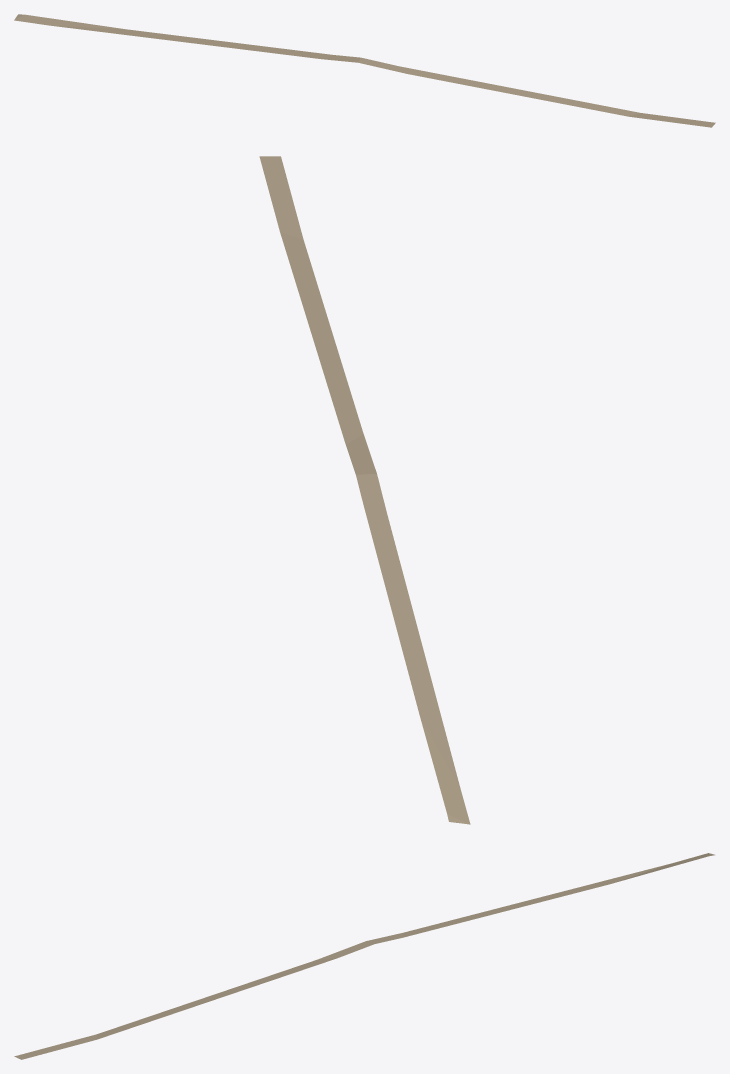
File: farm_-3_13_track.glb
3 renders of one model, top to bottom at view 1: azimuth 30°, elevation 25°; view 2: azimuth 150°, elevation 25°; view 3: azimuth 270°, elevation 25°, orthographic. The views are drawn at different scales.
Visible parts, largest first — view 1: geometry_0; view 2: geometry_0; view 3: geometry_0.
Part boxes in pixels (box(x1,y1,x2,y2)): geometry_0: box(14, 14, 715, 127); geometry_0: box(259, 156, 470, 824); geometry_0: box(14, 853, 714, 1059).
Size of the model in its own units: 140 by 6.5 by 183.
